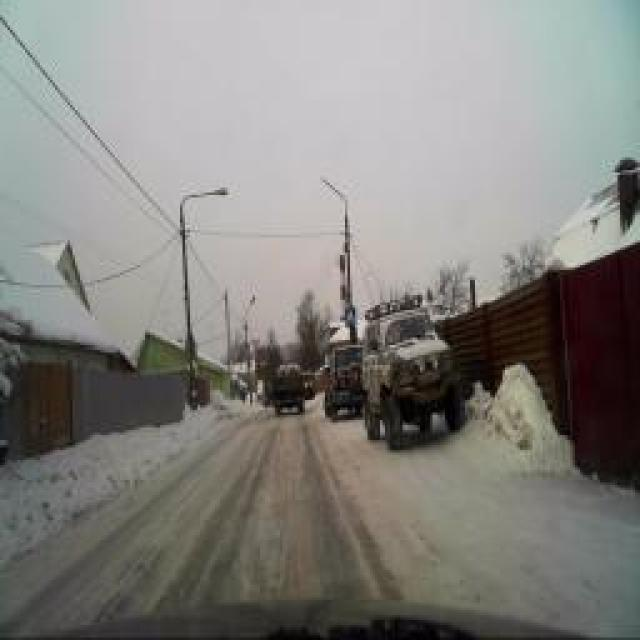sign: (344, 308, 356, 328)
